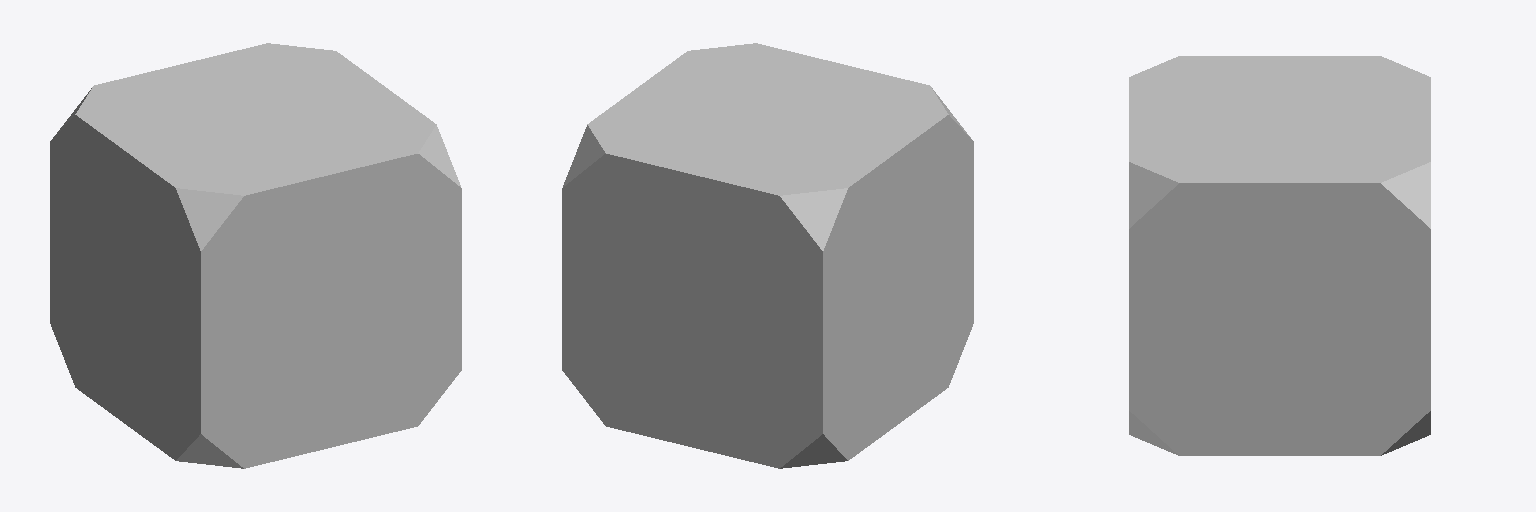
The model's file is raycube.obj.
3 views of the same model, side by side, from view 1: azimuth 30°, elevation 25°; view 2: azimuth 150°, elevation 25°; view 3: azimuth 270°, elevation 25° (orthographic).
Visible parts, largest first — view 1: cube; view 2: cube; view 3: cube.
Part boxes in pixels (left/top/right/bottom): cube: left=50, top=43, right=461, bottom=468; cube: left=562, top=43, right=973, bottom=468; cube: left=1129, top=56, right=1430, bottom=455.
Size of the model in its own units: 1 by 1 by 1.